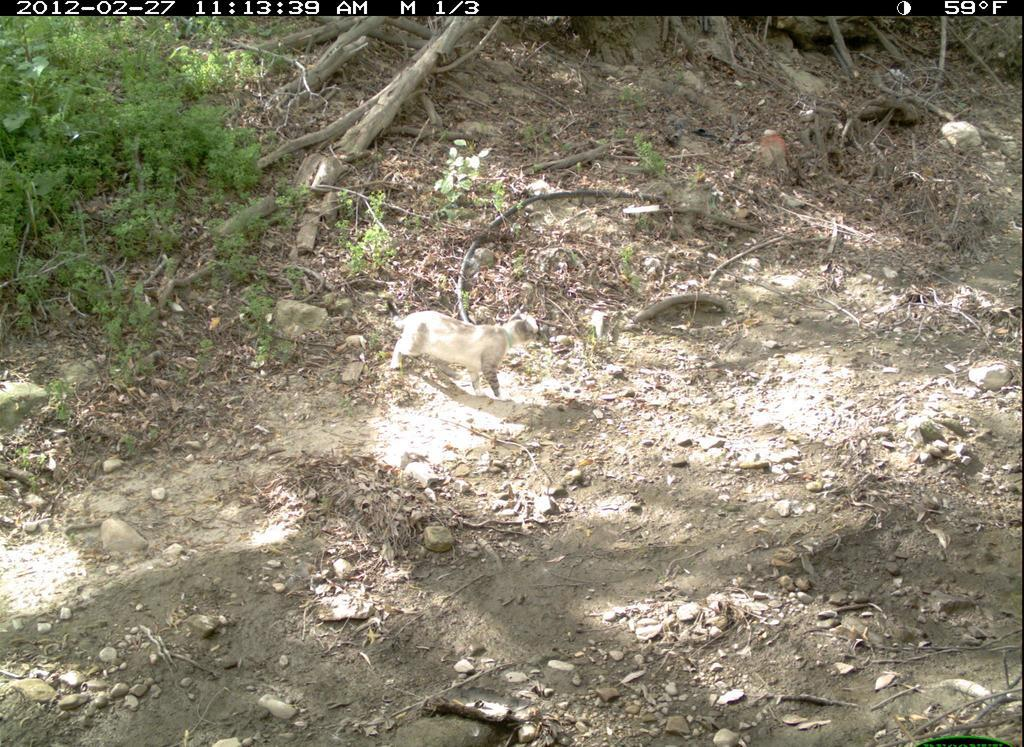cat: (359, 295, 555, 397)
